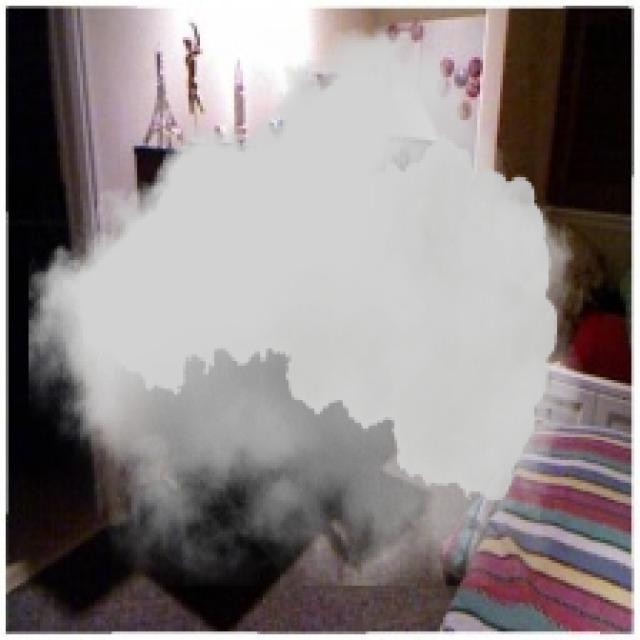Smoke: (28, 28, 583, 586)
